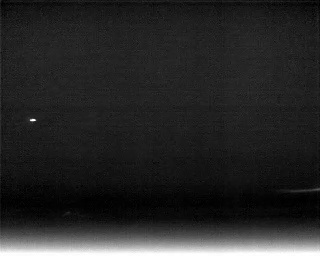AIRPLANE: (28, 116, 38, 124)
